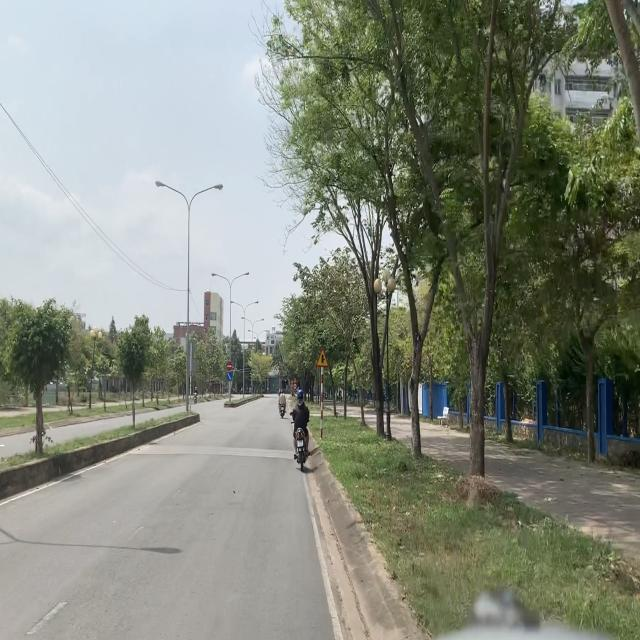Cam nguoc chieu: (227, 361, 232, 371)
Giao voi duong khong uu tien: (316, 348, 329, 368)
Hieu lenh: (226, 372, 232, 381)
